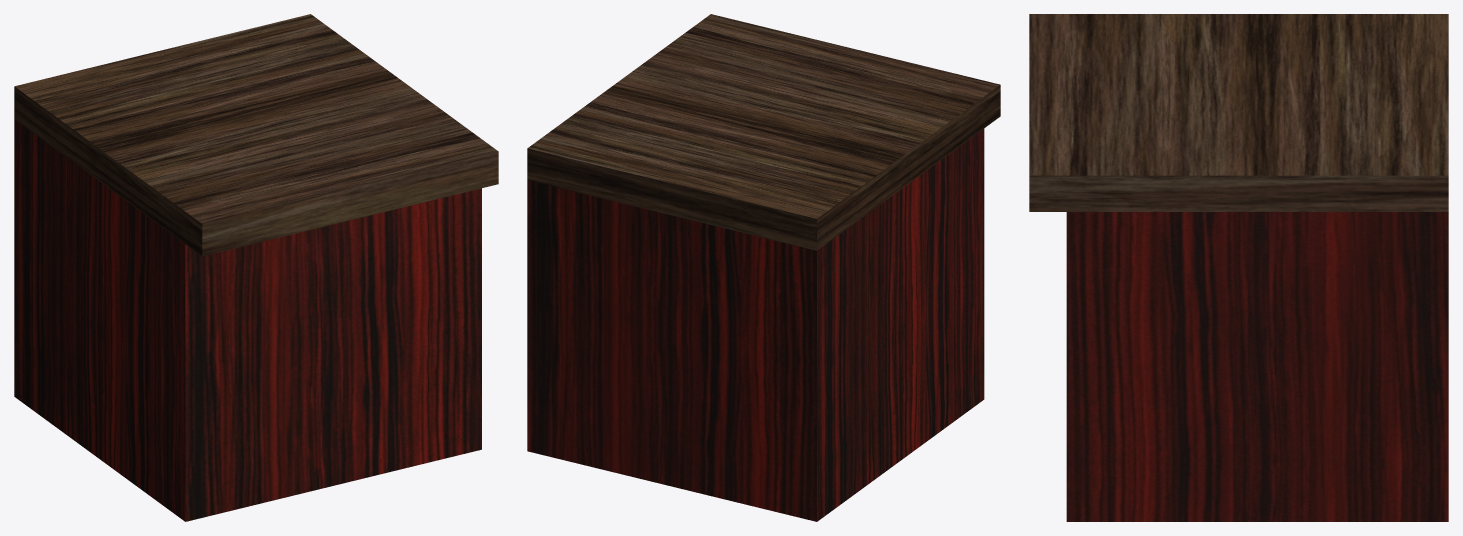
File: worktop1.fbx
3 views of the same model, side by side, from view 1: azimuth 30°, elevation 25°; view 2: azimuth 150°, elevation 25°; view 3: azimuth 270°, elevation 25° (orthographic). The views are drawn at different scales.
Parts seen in each view (by area): view 1: pCube2; view 2: pCube2; view 3: pCube2.
Part boxes in pixels (x1,y1,x2,y2): pCube2: (14,14,498,521); pCube2: (527,14,1000,521); pCube2: (1029,14,1448,521).
Bounding box in the file's own units: 8 × 8 × 8.78.
Materials: 2 (2 with a texture image).
